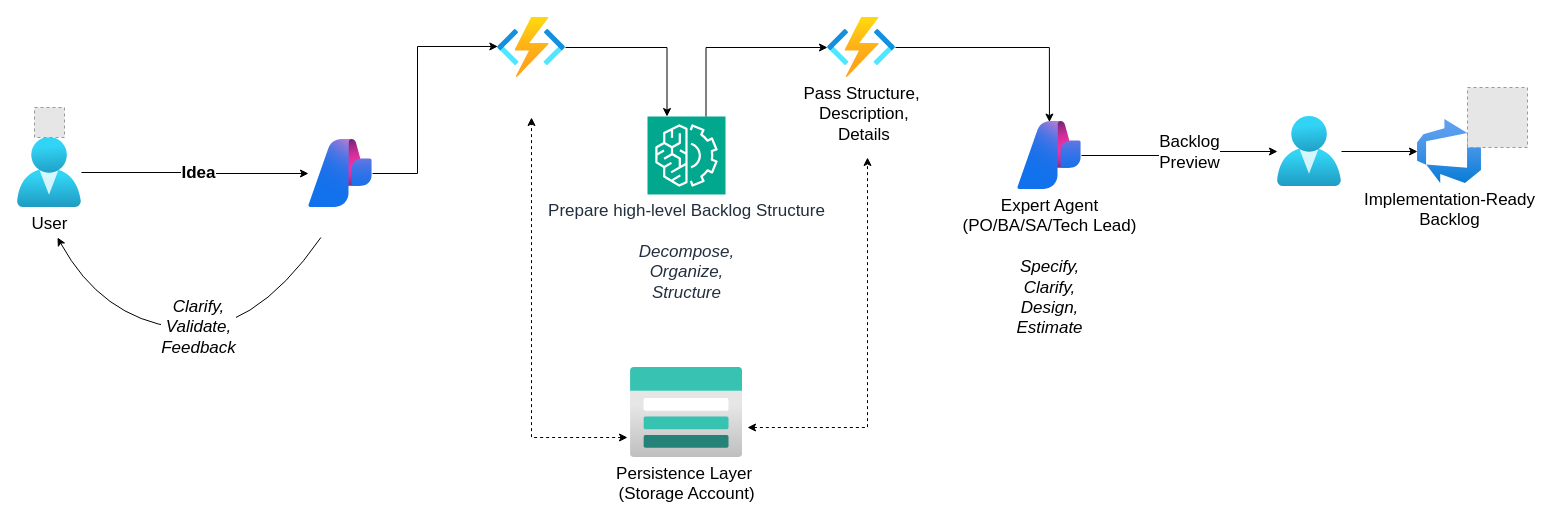
Some shapes in this 1552 by 522 pixel diagram are drawn without their labels. Grey dashed boxes stand in for pictures. Each missing label, with the centre of its shape:
"Backlog Refinement Agent" goes at (x=340, y=173).
"Pass Discussion Context" goes at (x=531, y=47).
"U s er Align, Validate, Edit" goes at (x=1309, y=151).
